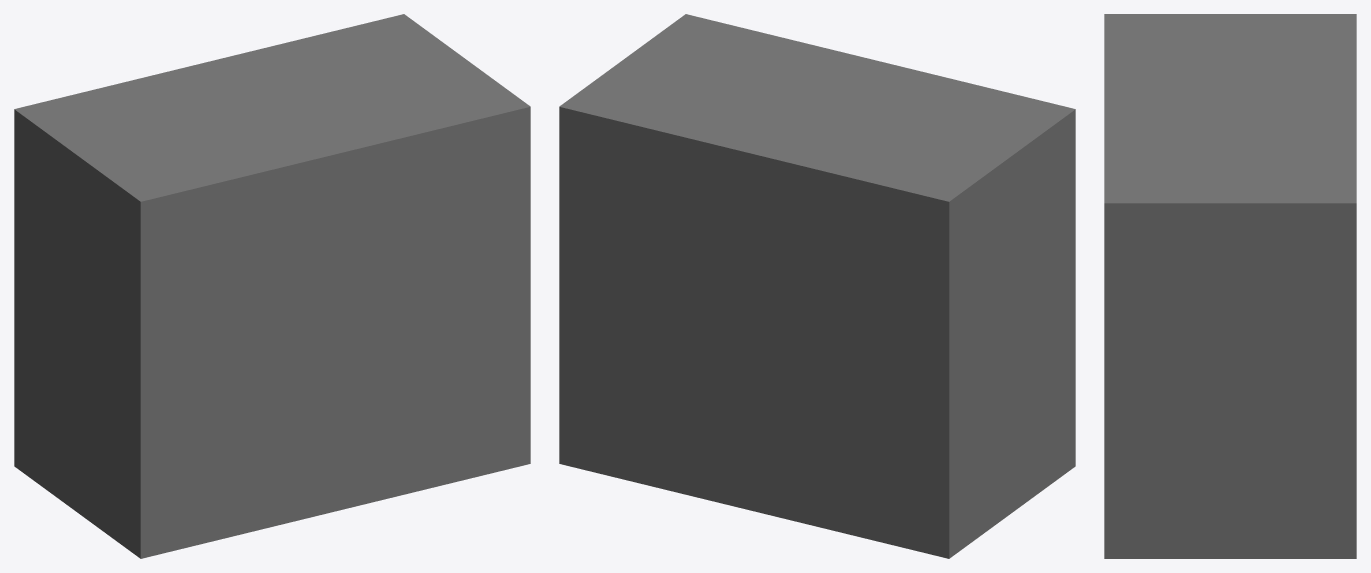
Rendered from Mushburg_wall_5.glb.
The picture shows the model from 3 angles, left to right: view 1: azimuth 30°, elevation 25°; view 2: azimuth 150°, elevation 25°; view 3: azimuth 270°, elevation 25°; orthographic projection.
Visible parts, largest first — view 1: wall_5; view 2: wall_5; view 3: wall_5.
Part boxes in pixels (bbox=[...]): wall_5: bbox=[14, 14, 530, 558]; wall_5: bbox=[559, 14, 1075, 558]; wall_5: bbox=[1104, 14, 1356, 558].
Bounding box in the file's own units: 1 × 0.875 × 0.5625.
Materials: 1 (1 with a texture image).
